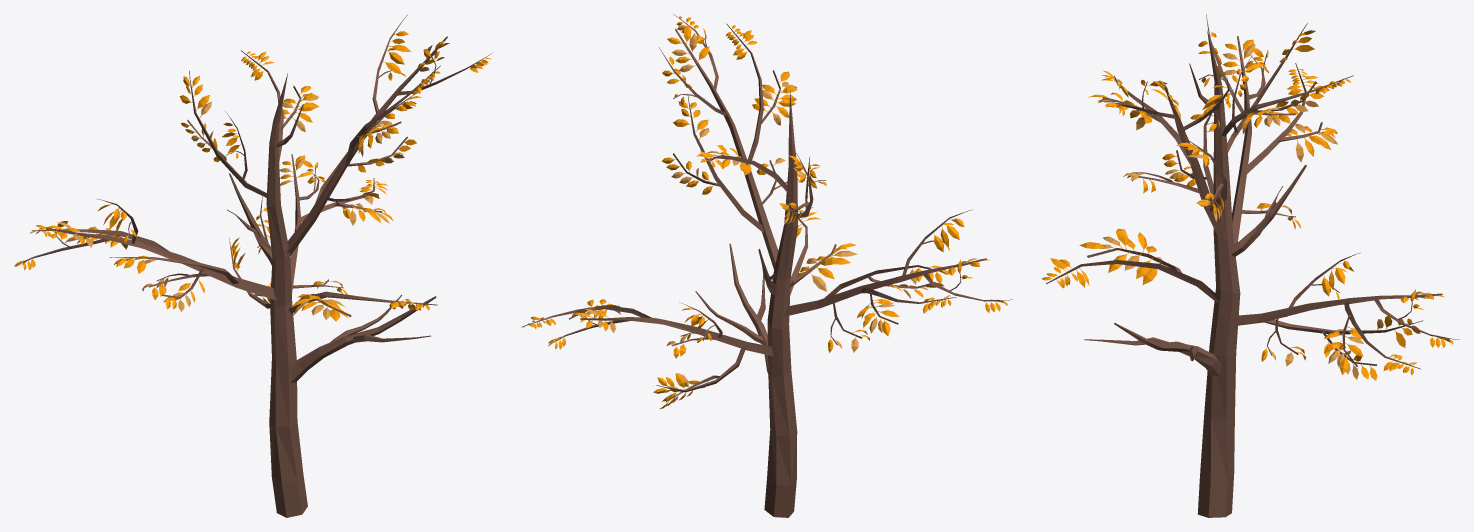
3 views of the same model, side by side, from view 1: azimuth 30°, elevation 25°; view 2: azimuth 150°, elevation 25°; view 3: azimuth 270°, elevation 25° (orthographic). The views are drawn at different scales.
Visible parts, largest first — view 1: Node; view 2: Node; view 3: Node.
Part boxes in pixels (left/top/right/bottom): Node: left=14, top=14, right=492, bottom=517; Node: left=521, top=14, right=1012, bottom=517; Node: left=1041, top=14, right=1459, bottom=517.
Bounding box in the file's own units: 5.85 × 5.91 × 4.44.
